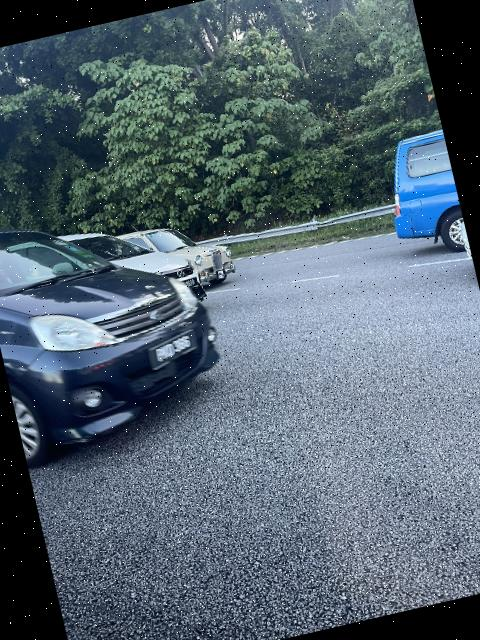License_Plate: (140, 322, 209, 376)
car: (1, 180, 243, 471)
